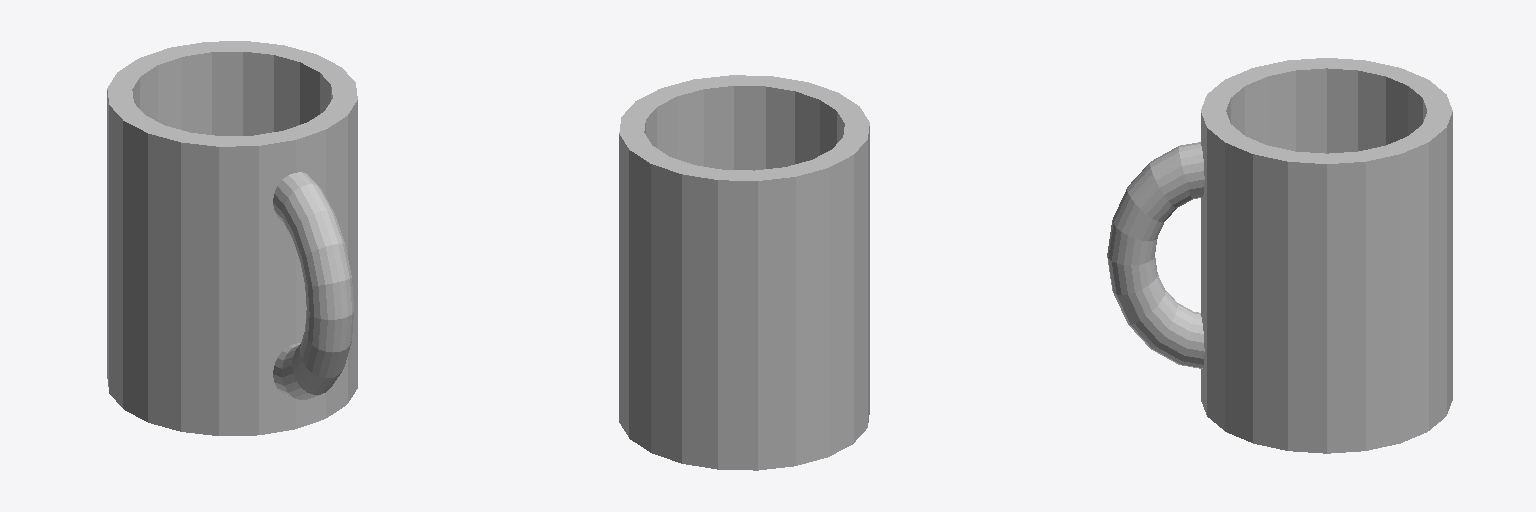
Rendered from Beer_Empty.obj.
3 renders of one model, left to right at view 1: azimuth 30°, elevation 25°; view 2: azimuth 150°, elevation 25°; view 3: azimuth 270°, elevation 25°, orthographic.
Visible parts, largest first — view 1: pPipe1, pTorus1; view 2: pPipe1; view 3: pPipe1, pTorus1.
Part boxes in pixels (x1,y1,x2,y2): pPipe1: (107, 41, 357, 435); pTorus1: (273, 172, 353, 399); pPipe1: (619, 75, 869, 469); pPipe1: (1201, 58, 1452, 452); pTorus1: (1107, 142, 1204, 368).
Bounding box in the file's own units: 2 × 2.54 × 2.74.